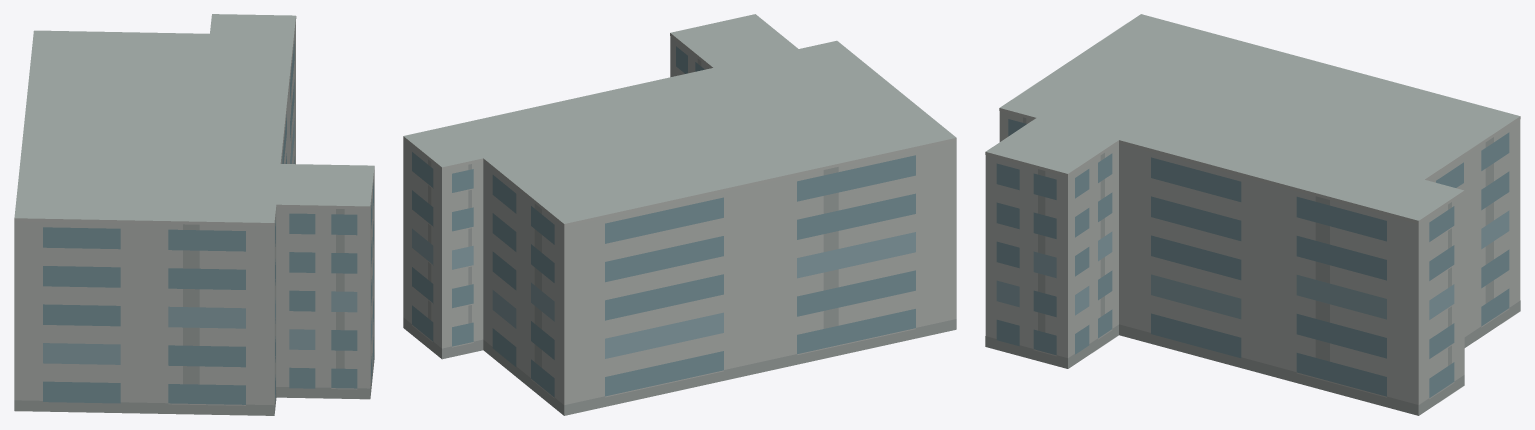
Rendered from residential-159ea591-f992-444f-891e-4a2128e52f7a.glb.
The picture shows the model from 3 angles, left to right: view 1: azimuth 30°, elevation 25°; view 2: azimuth 150°, elevation 25°; view 3: azimuth 270°, elevation 25°; orthographic projection.
Parts seen in each view (by area): view 1: residential-159ea591-f992-444f-891e-4a2128e52f7a.tmp; view 2: residential-159ea591-f992-444f-891e-4a2128e52f7a.tmp; view 3: residential-159ea591-f992-444f-891e-4a2128e52f7a.tmp.
Part boxes in pixels (x1,y1,x2,y2): residential-159ea591-f992-444f-891e-4a2128e52f7a.tmp: [14, 14, 374, 415]; residential-159ea591-f992-444f-891e-4a2128e52f7a.tmp: [403, 14, 956, 415]; residential-159ea591-f992-444f-891e-4a2128e52f7a.tmp: [985, 14, 1520, 415].
Bounding box in the file's own units: 34.68 × 15.25 × 37.9.
